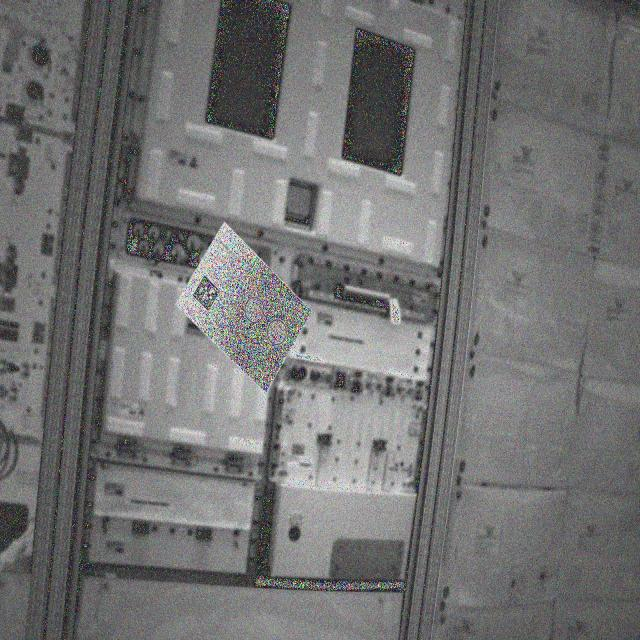coin: (264, 317, 292, 346), (244, 296, 268, 327)
